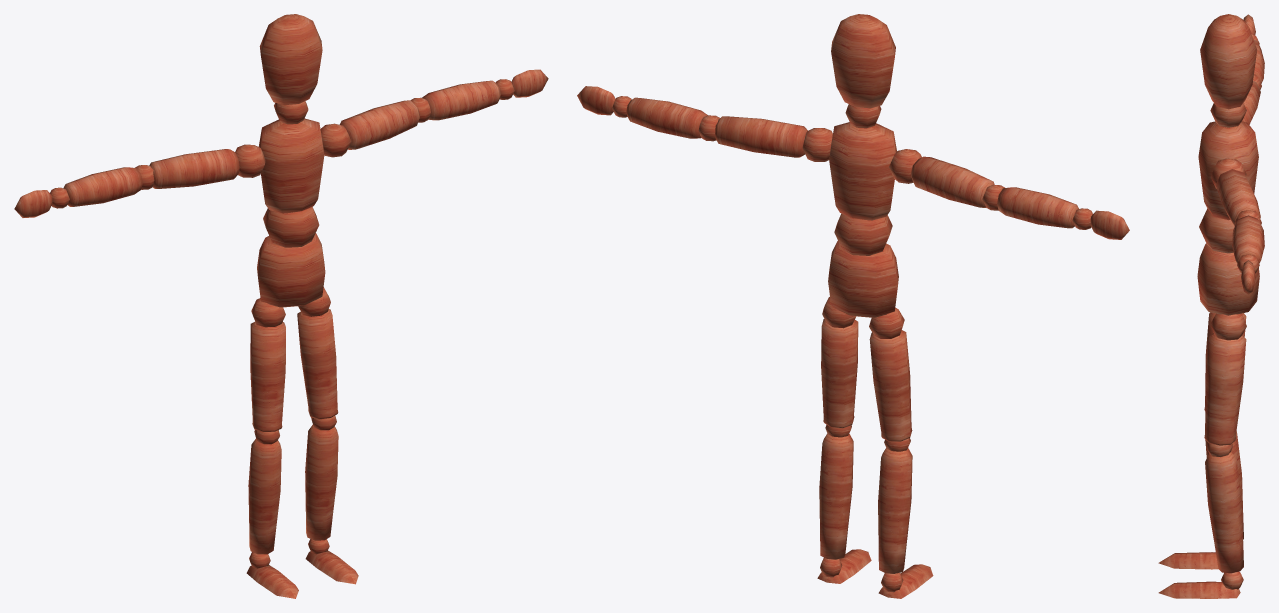
The model's file is character.fbx.
3 renders of one model, left to right at view 1: azimuth 30°, elevation 25°; view 2: azimuth 150°, elevation 25°; view 3: azimuth 270°, elevation 25°, orthographic. The views are drawn at different scales.
Parts seen in each view (by area): view 1: Upper_Body, Head, Figure, Right_Thigh, Left_Thigh, Left_Shin, Right_Shin, Right_Upper_Arm, Left_Upper_Arm, Right_Lower_Arm, Left_Lower_Arm, Joint (+7 smaller); view 2: Upper_Body, Head, Figure, Right_Shin, Left_Shin, Right_Thigh, Left_Thigh, Left_Upper_Arm, Right_Upper_Arm, Right_Lower_Arm, Left_Lower_Arm, Joint (+7 smaller); view 3: Head, Left_Thigh, Left_Shin, Upper_Body, Figure, Left_Upper_Arm, Left_Lower_Arm, Left_Foot, Joint, Right_Foot, Left_Joint_3, Neck (+10 smaller).
Part boxes in pixels (x1=…): Upper_Body: x1=258, y1=118, x2=324, y2=213; Head: x1=259, y1=14, x2=322, y2=105; Figure: x1=257, y1=233, x2=325, y2=307; Right_Thigh: x1=250, y1=322, x2=285, y2=431; Left_Thigh: x1=297, y1=309, x2=338, y2=419; Left_Shin: x1=305, y1=424, x2=338, y2=540; Right_Shin: x1=248, y1=438, x2=281, y2=554; Right_Upper_Arm: x1=149, y1=149, x2=239, y2=188; Left_Upper_Arm: x1=340, y1=100, x2=419, y2=149; Right_Lower_Arm: x1=63, y1=167, x2=142, y2=206; Left_Lower_Arm: x1=422, y1=80, x2=500, y2=120; Joint: x1=263, y1=207, x2=319, y2=247; Upper_Body: x1=829, y1=122, x2=896, y2=220; Head: x1=831, y1=14, x2=895, y2=108; Figure: x1=828, y1=241, x2=898, y2=317; Right_Shin: x1=878, y1=448, x2=912, y2=573; Left_Shin: x1=819, y1=433, x2=853, y2=559; Right_Thigh: x1=869, y1=330, x2=912, y2=441; Left_Thigh: x1=821, y1=319, x2=858, y2=428; Left_Upper_Arm: x1=715, y1=116, x2=807, y2=157; Right_Upper_Arm: x1=910, y1=156, x2=994, y2=207; Right_Lower_Arm: x1=997, y1=187, x2=1078, y2=228; Left_Lower_Arm: x1=626, y1=97, x2=707, y2=138; Joint: x1=834, y1=213, x2=892, y2=255; Head: x1=1200, y1=14, x2=1257, y2=109; Left_Thigh: x1=1204, y1=333, x2=1246, y2=445; Left_Shin: x1=1205, y1=452, x2=1243, y2=573; Upper_Body: x1=1198, y1=121, x2=1258, y2=220; Figure: x1=1197, y1=243, x2=1259, y2=315; Left_Upper_Arm: x1=1215, y1=169, x2=1260, y2=225; Left_Lower_Arm: x1=1232, y1=215, x2=1264, y2=263; Left_Foot: x1=1158, y1=581, x2=1240, y2=598; Joint: x1=1199, y1=208, x2=1234, y2=253; Right_Foot: x1=1158, y1=552, x2=1218, y2=569; Left_Joint_3: x1=1210, y1=313, x2=1246, y2=340; Neck: x1=1210, y1=103, x2=1246, y2=127.
Size of the model in its own units: 610 by 600 by 104.
Materials: 1 (1 with a texture image).
